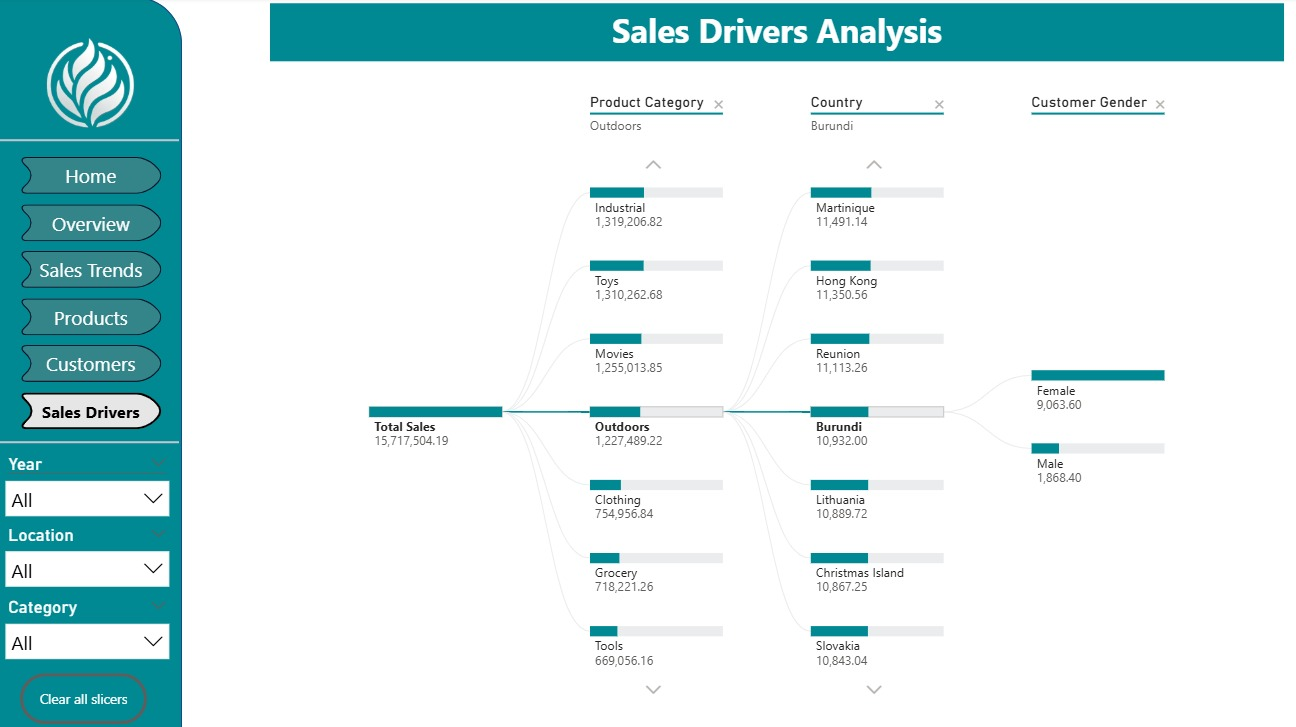

What the dashboard file says about the page in this screenshot:
{"tool":"powerbi","page":{"name":"Sales Drivers ","canvas":[1280,720],"ordinal":3},"visuals":[{"type":"shape","box":[0,0,182.9,720],"z":0},{"type":"textbox","box":[268.9,6,991.9,56.8],"z":1000},{"type":"decompositionTreeVisual","fields":{"Analyze":["FactSales.Total Sales"],"ExplainBy":["DimProduct.Product Category","FactSales.Country","DimCustomer.Customer Gender"]},"box":[352.5,73.2,855.9,633.4],"z":2000},{"type":"pageNavigator","box":[20.5,156.6,146.3,267.8],"z":3000},{"type":"shape","box":[0,427.3,180,17.6],"z":4000},{"type":"shape","box":[0,128.8,180,23.4],"z":5000},{"type":"slicer","fields":{"Values":["E-Commerce Dataset.Order Year"]},"box":[0,442,180,71.7],"z":6000},{"type":"slicer","fields":{"Values":["FactSales.Country"]},"box":[0,510.7,180,80.5],"z":7000},{"type":"slicer","fields":{"Values":["E-Commerce Dataset.Product Category"]},"box":[0,582.4,180,80.5],"z":8000},{"type":"image","box":[42.4,33.7,102.4,99.5],"z":9000},{"type":"actionButton","box":[24.9,661.5,124.4,49.8],"z":10000}]}

Visuals, with their boxes in screenshot pixels (x1, y1, x2, y2), scaled from the page's 1280x720 canvas onto the 1296x727 screenshot:
shape: <region>0, 0, 185, 726</region>
textbox: <region>272, 6, 1277, 63</region>
decompositionTreeVisual - FactSales.Total Sales x DimProduct.Product Category: <region>357, 74, 1224, 713</region>
pageNavigator: <region>21, 158, 169, 429</region>
shape: <region>0, 431, 182, 449</region>
shape: <region>0, 130, 182, 154</region>
slicer - E-Commerce Dataset.Order Year: <region>0, 446, 182, 519</region>
slicer - FactSales.Country: <region>0, 516, 182, 597</region>
slicer - E-Commerce Dataset.Product Category: <region>0, 588, 182, 669</region>
image: <region>43, 34, 147, 134</region>
actionButton: <region>25, 668, 151, 718</region>
